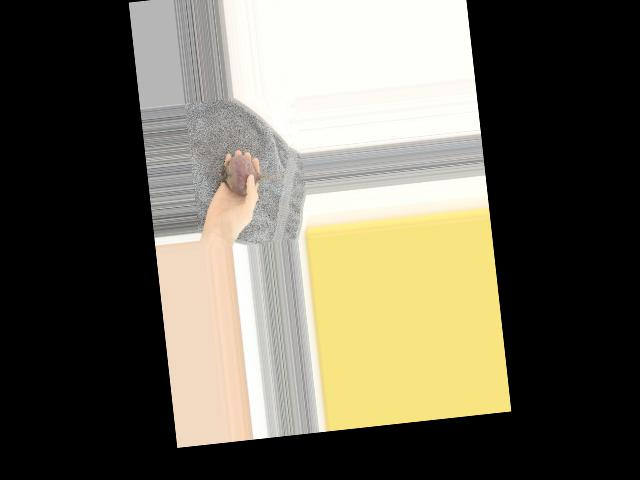beet: (218, 149, 289, 197)
